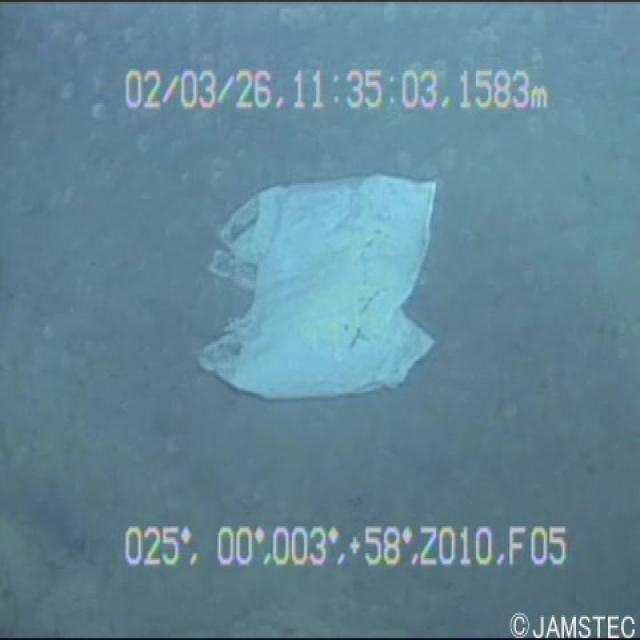plastic: (192, 158, 457, 407)
